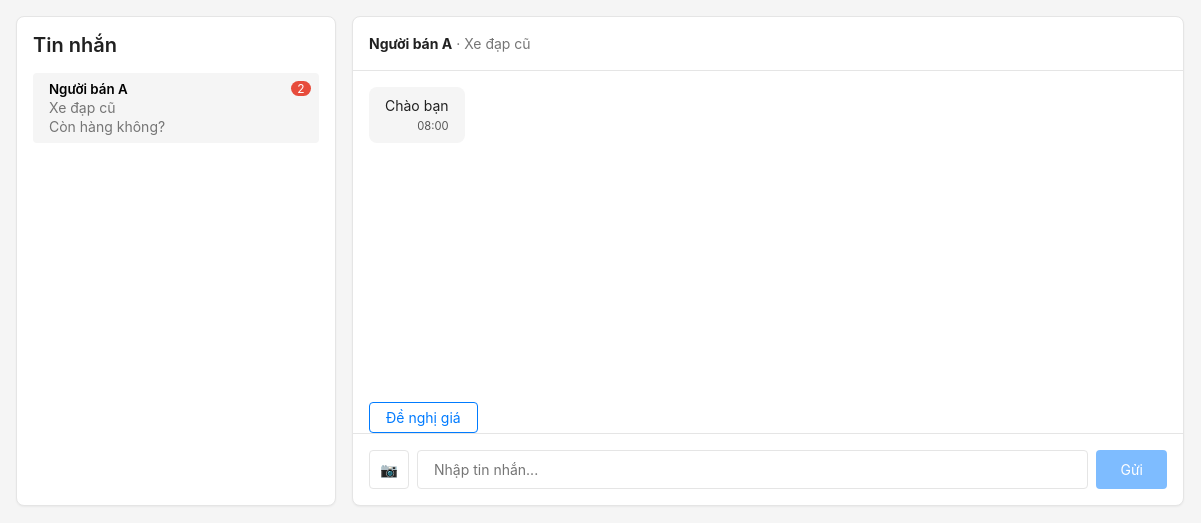
Test case: falls back to REST when the socket is disconnected
Expected: the text "Chào bạn" is shown, [385,95,448,116]
In the field named "Nội dung tin nhắn": (753, 469) [417,450,1088,489], type "Gửi qua REST"
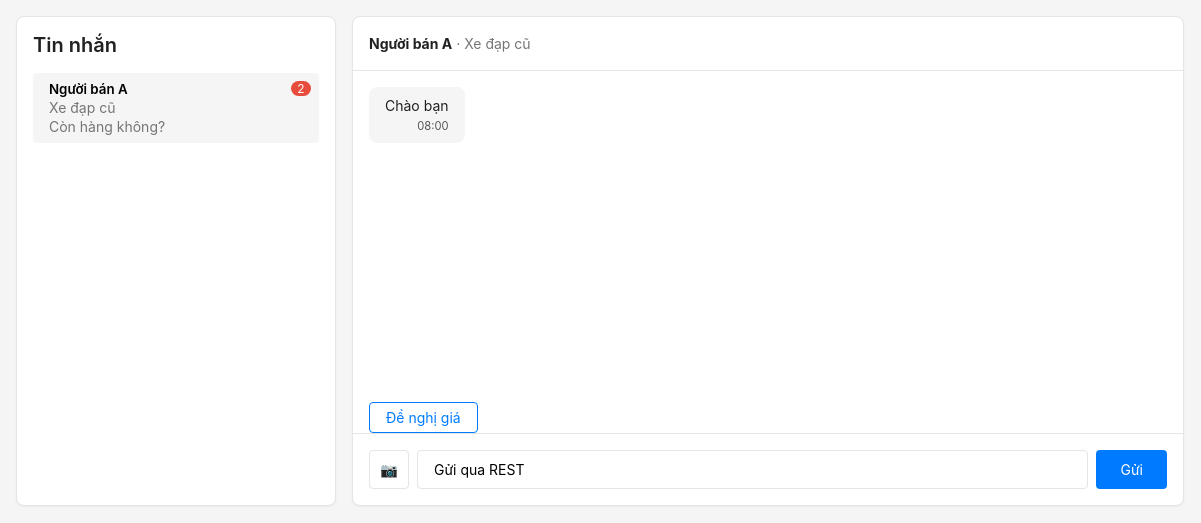
Click the button "Gửi": (1132, 469) [1096,450,1167,489]
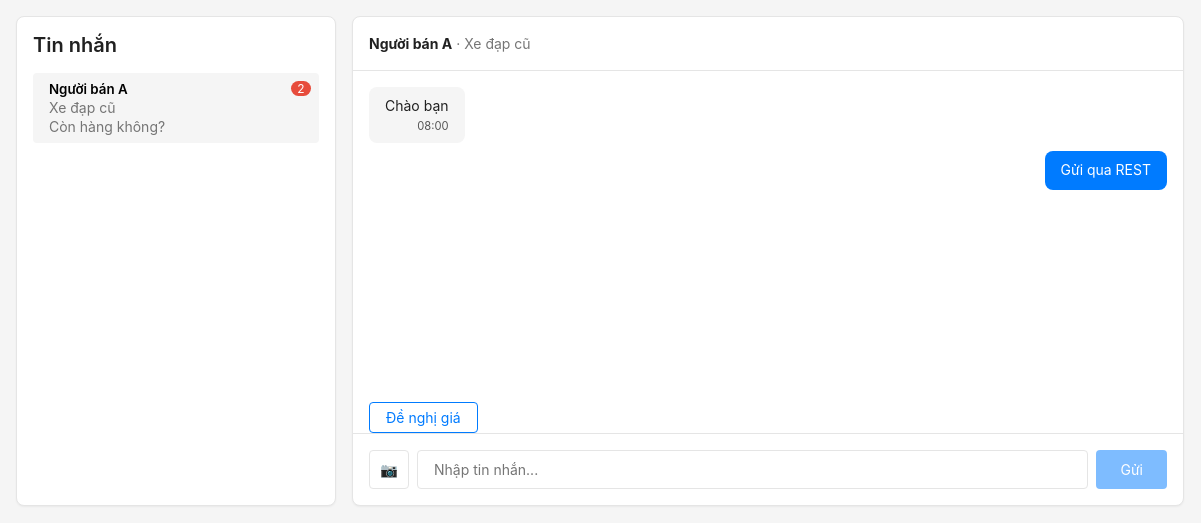
Result: the text "Gửi qua REST" is shown at [1060,159,1151,180]
